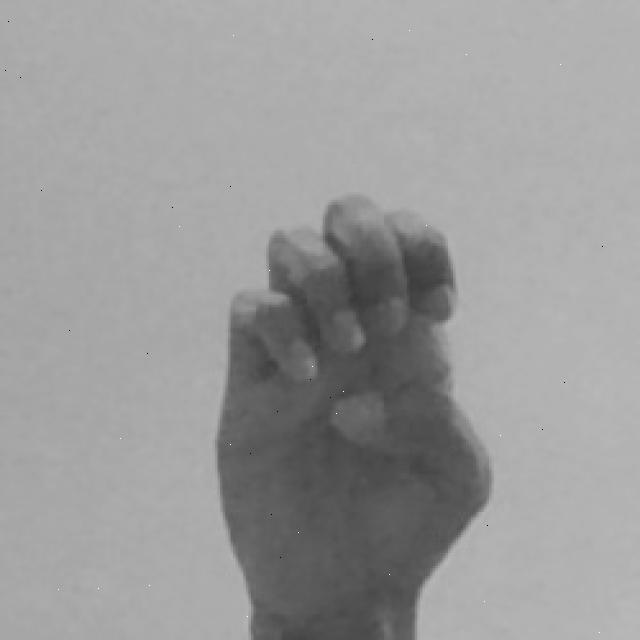E: (212, 194, 494, 640)
